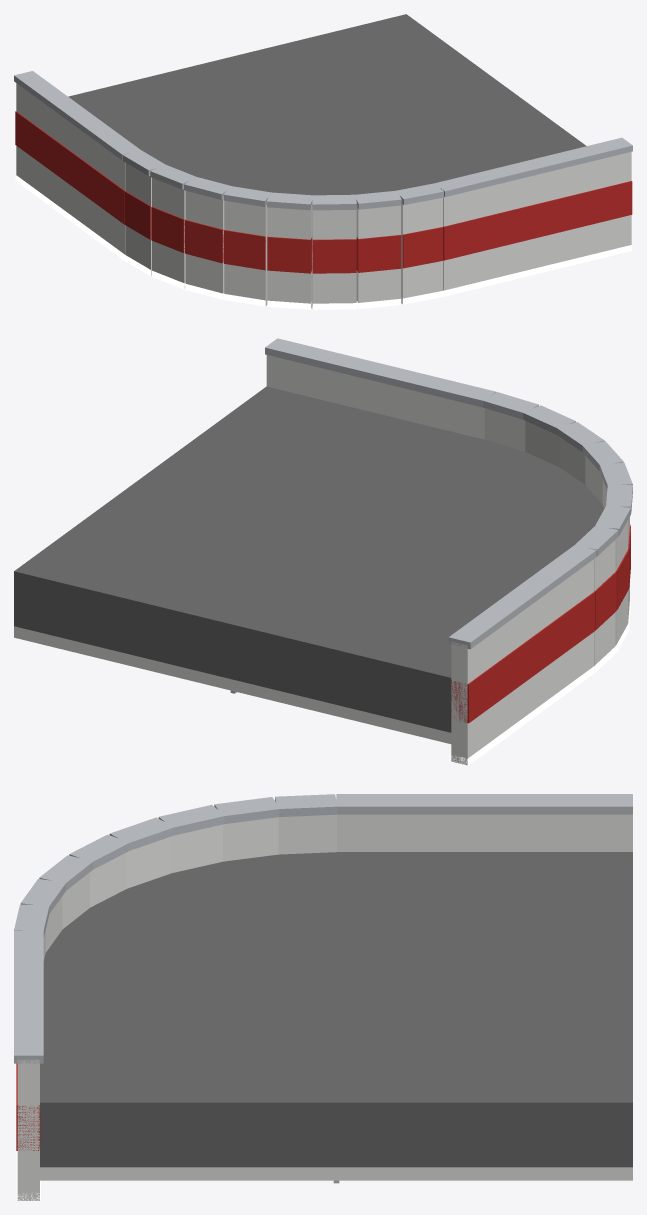
Rendered from Canopy_Roof_Corner.glb.
The picture shows the model from 3 angles, top to bottom: view 1: azimuth 30°, elevation 25°; view 2: azimuth 150°, elevation 25°; view 3: azimuth 270°, elevation 25°; orthographic projection. The views are drawn at different scales.
Visible parts, largest first — view 1: Canopy_Roof_Corner; view 2: Canopy_Roof_Corner; view 3: Canopy_Roof_Corner.
Boxes of the visible parts, x1,y1,x2,y2 form: Canopy_Roof_Corner: (14, 14, 632, 309); Canopy_Roof_Corner: (14, 338, 632, 765); Canopy_Roof_Corner: (14, 794, 632, 1200).
Size of the model in its own units: 4.18 by 1.08 by 4.17.
Materials: 1 (1 with a texture image).
